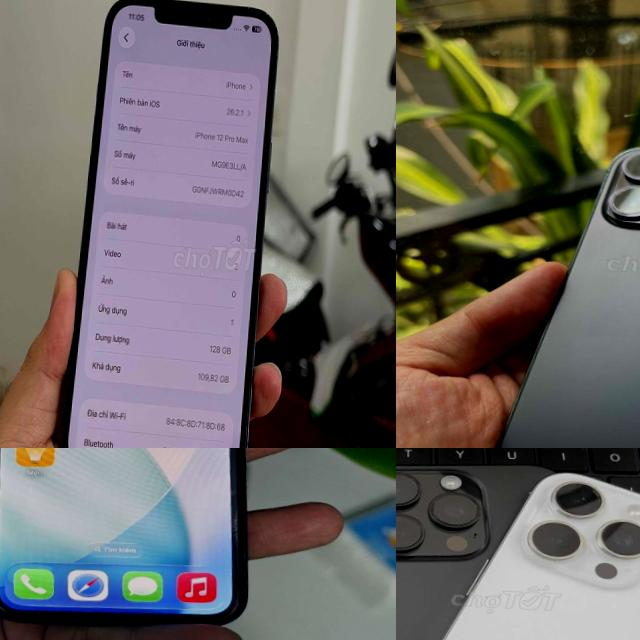gen_11: (0, 448, 271, 638)
gen_12_13: (54, 0, 276, 448)
gen_14: (493, 137, 640, 448)
gen_16: (441, 473, 640, 640)
